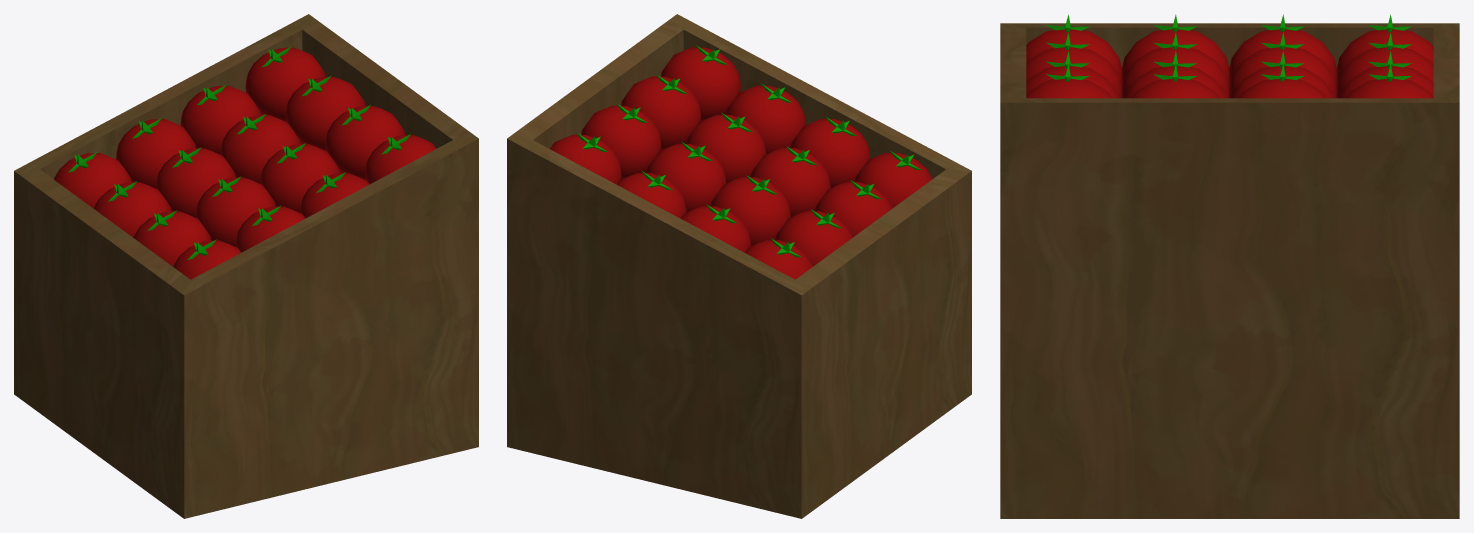
File: Scenary3D.fbx
3 views of the same model, side by side, from view 1: azimuth 30°, elevation 25°; view 2: azimuth 150°, elevation 25°; view 3: azimuth 270°, elevation 25° (orthographic). The views are drawn at different scales.
Visible parts, largest first — view 1: Box002; view 2: Box002; view 3: Box002.
Part boxes in pixels (x1,y1,x2,y2): Box002: (14, 14, 478, 518); Box002: (507, 14, 971, 518); Box002: (1000, 14, 1459, 518).
Bounding box in the file's own units: 47.11 × 47.11 × 47.11.
Materials: 3 (1 with a texture image).
